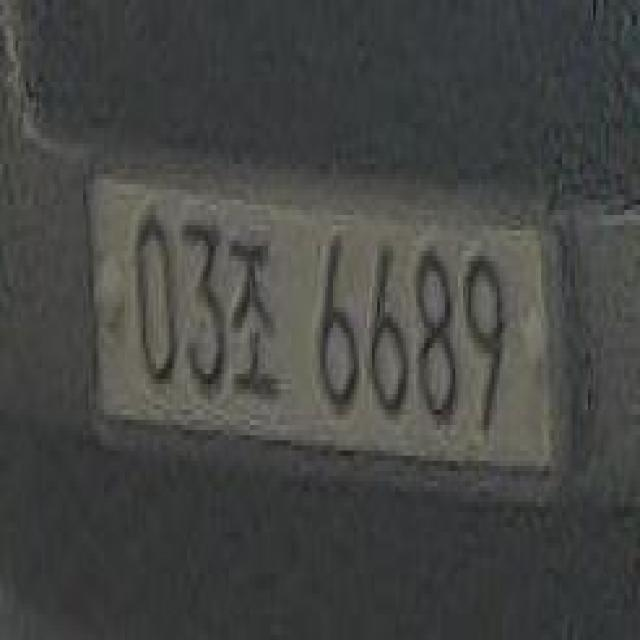illegal_plate: (89, 149, 565, 508)
